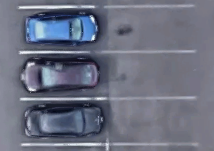Occupied: (19, 52, 108, 99), (18, 99, 108, 145), (19, 7, 108, 52)
Vacant: (107, 52, 195, 98), (108, 99, 195, 145), (108, 7, 195, 52)
